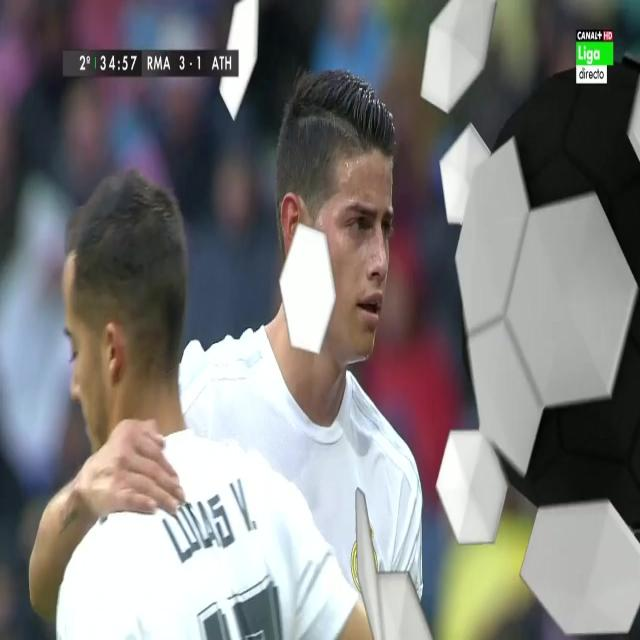Player: (52, 165, 373, 640), (178, 60, 422, 640)
